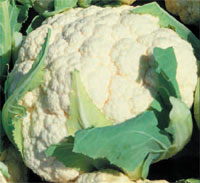cauliflower: (3, 6, 196, 182)
